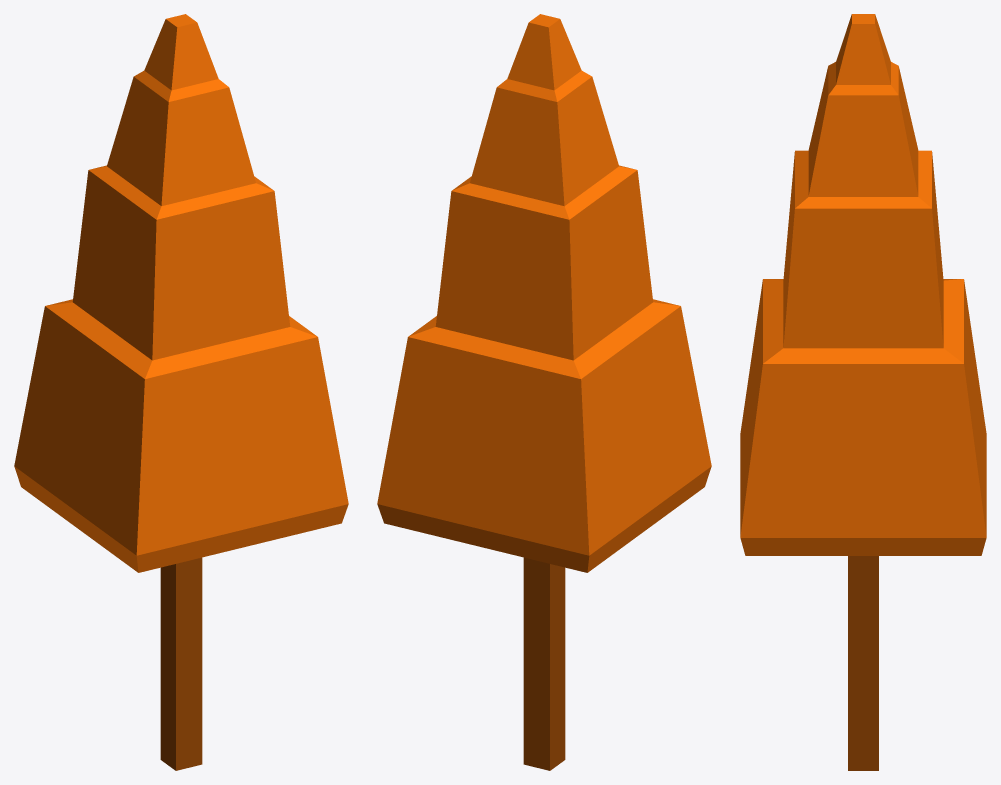
File: Tree_32_Fall.fbx
3 renders of one model, left to right at view 1: azimuth 30°, elevation 25°; view 2: azimuth 150°, elevation 25°; view 3: azimuth 270°, elevation 25°, orthographic.
Parts seen in each view (by area): view 1: Tree_32_Fall; view 2: Tree_32_Fall; view 3: Tree_32_Fall.
Boxes of the visible parts, x1=… form: Tree_32_Fall: x1=14, y1=14, x2=348, y2=770; Tree_32_Fall: x1=377, y1=14, x2=711, y2=770; Tree_32_Fall: x1=740, y1=14, x2=986, y2=770.
Size of the model in its own units: 113 by 378 by 113.
